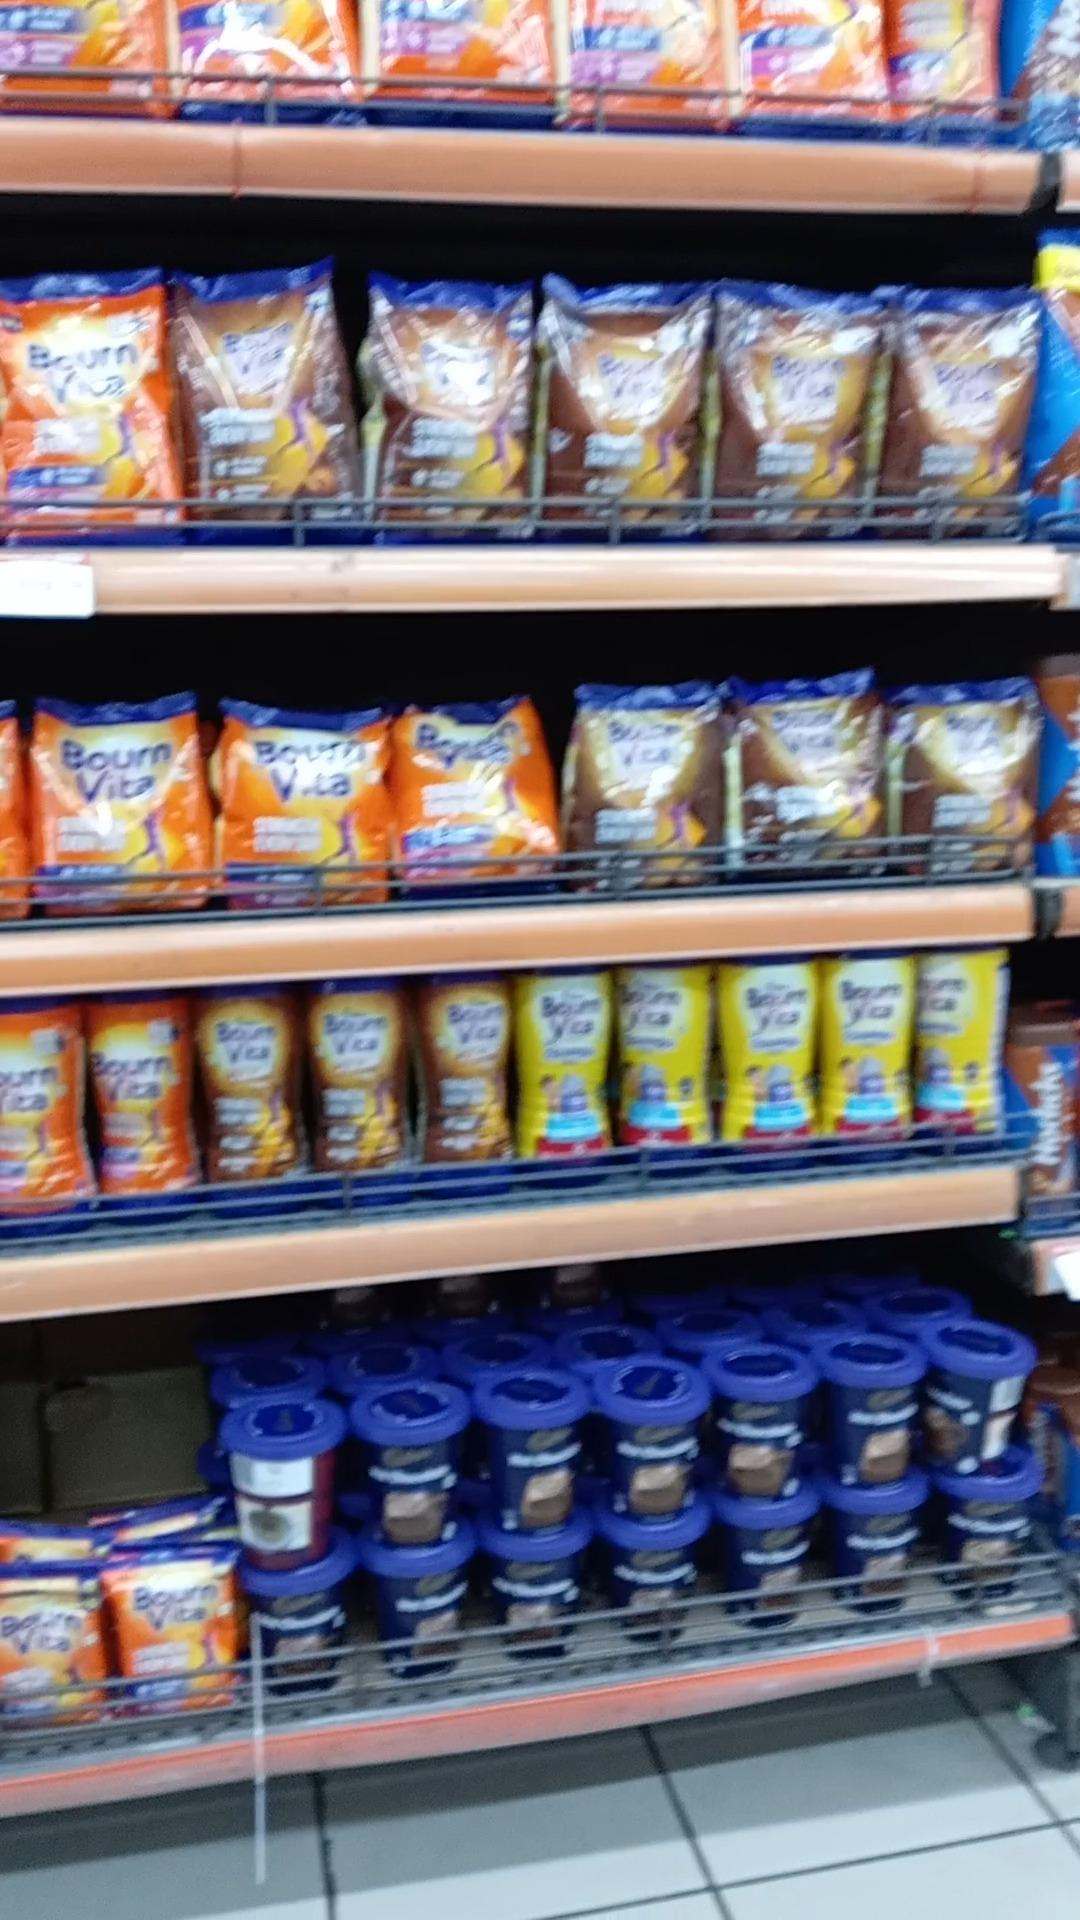BOURN_VITA_500_G_JAR: (0, 996, 90, 1245), (91, 996, 186, 1226)
BOURN_VITA_500_G_POUCH: (220, 707, 384, 906), (37, 700, 182, 918), (397, 702, 554, 898)
BOURN_VITA_750_G_POUCH: (0, 272, 167, 546)
BOURN_VITA_75_G_POUCH: (105, 1543, 237, 1720), (1, 1567, 103, 1729)
BOURN_VITA_CHAMPS_500_G_JAR: (719, 955, 820, 1176), (616, 964, 715, 1183), (516, 965, 609, 1195), (823, 948, 911, 1171), (915, 947, 992, 1158)
BOURN_VITA_FIVE_STAR_MAGIC_500_G_JAR: (303, 975, 405, 1222), (196, 981, 299, 1221), (418, 967, 513, 1201)
BOURN_VITA_FIVE_STAR_MAGIC_500_G_POUCH: (732, 679, 885, 886), (572, 684, 721, 890), (898, 688, 1043, 889)
BOURN_VITA_FIVE_STAR_MAGIC_750_G_POUCH: (181, 272, 355, 546), (369, 284, 533, 549), (541, 291, 708, 549), (720, 311, 884, 543), (891, 289, 1035, 539)
